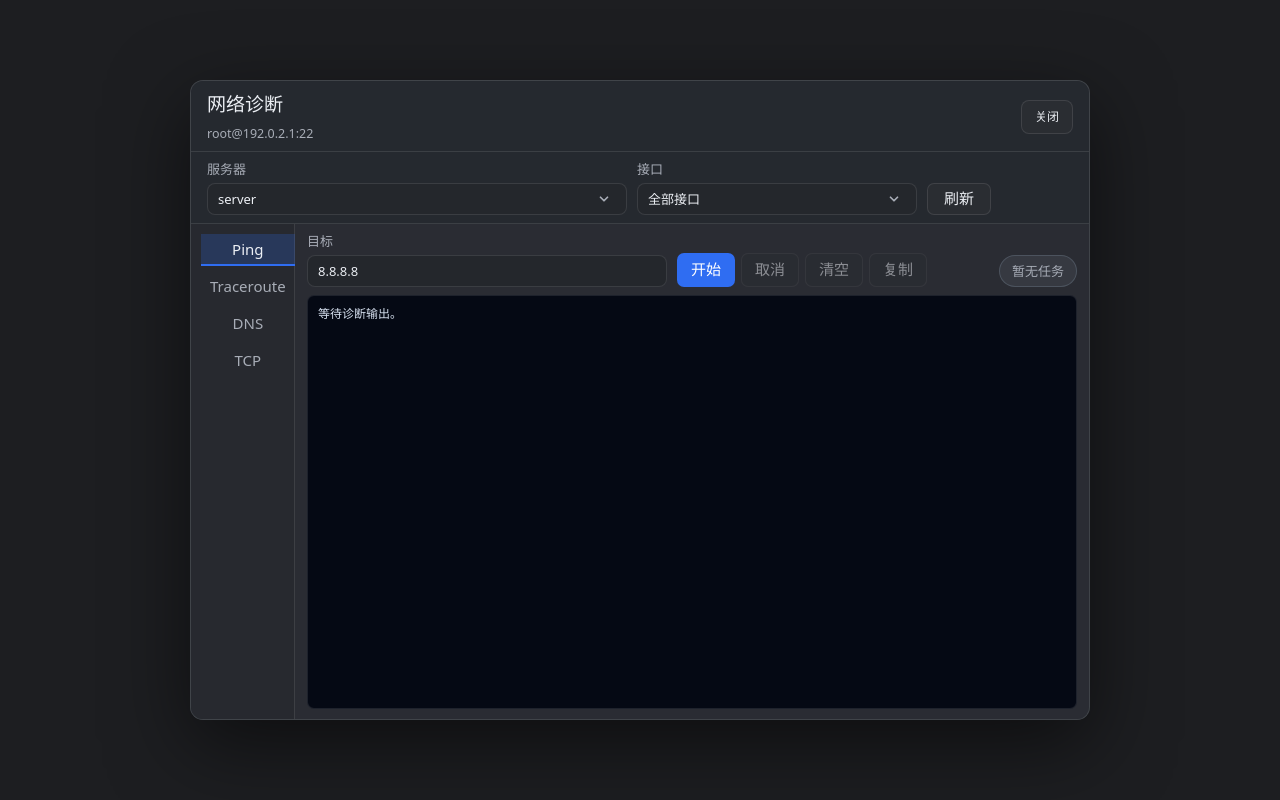
Test: NetworkDiagnosticsDialog › renders Ping, Traceroute, DNS, and TCP forms
Click the button "TCP". click: coordinates (248, 361)
box: [201,345,295,377]
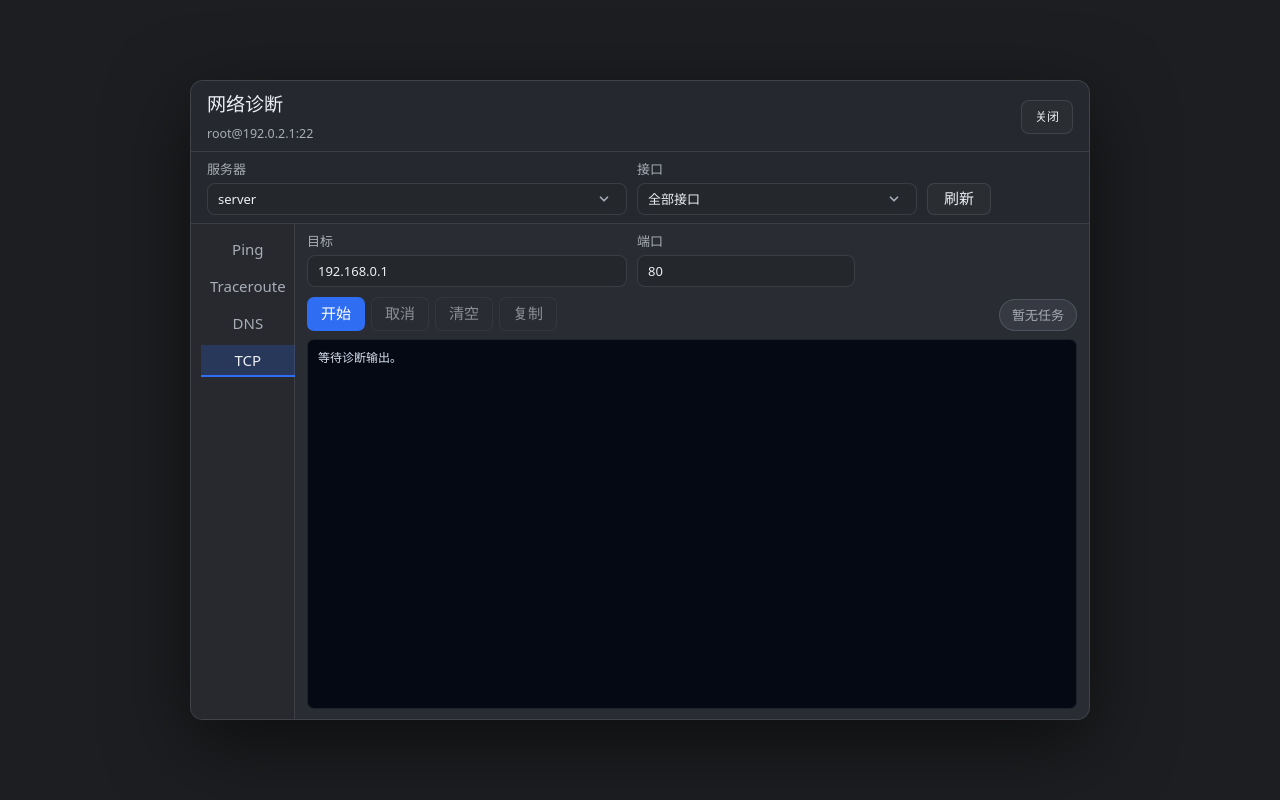
Now the field with placeholder "80" is shown, box [637,255,855,287]
